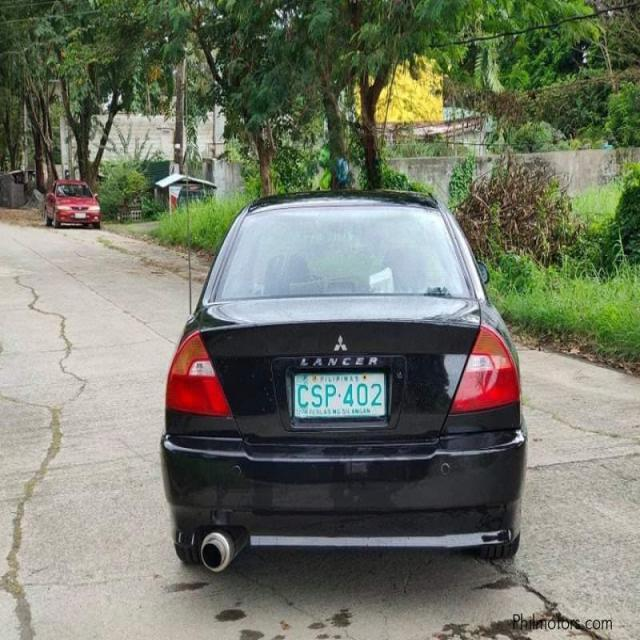number: (294, 372, 387, 419)
